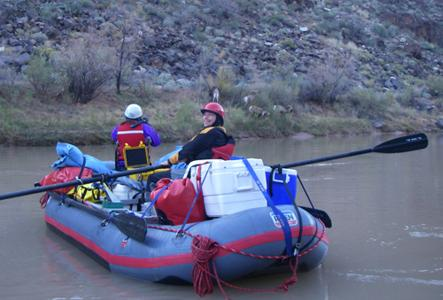person: (158, 103, 239, 166)
